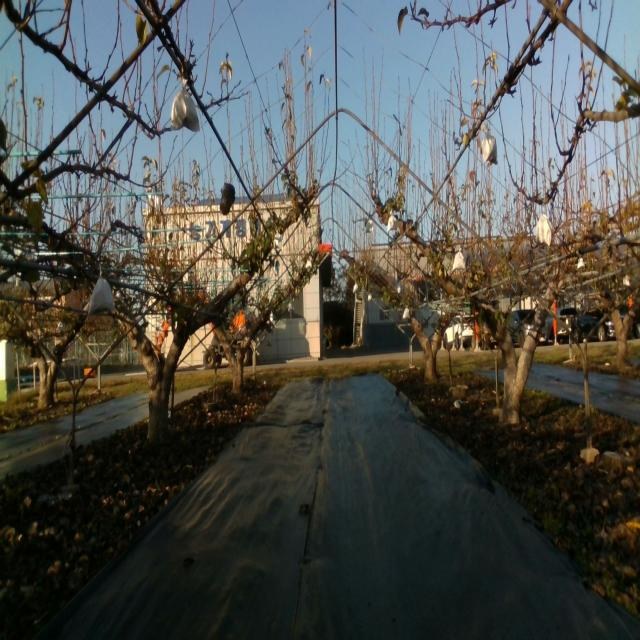pearbags: (172, 76, 203, 134), (87, 268, 117, 316), (482, 124, 498, 164), (535, 215, 553, 249), (451, 249, 466, 272)
